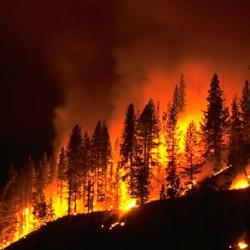fire: (53, 199, 71, 214), (232, 176, 246, 188), (122, 198, 134, 211), (24, 211, 33, 228), (178, 121, 183, 149)
